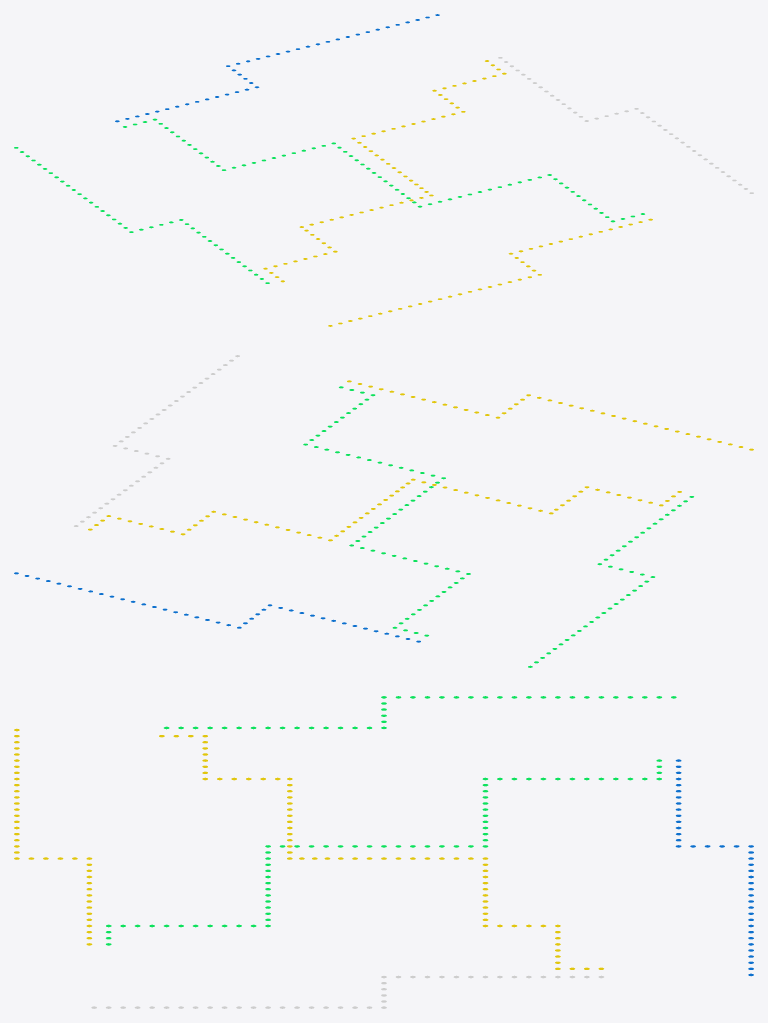
File: Tetris_AttackLineDummy.fbx
3 views of the same model, one above another, from view 1: azimuth 30°, elevation 25°; view 2: azimuth 150°, elevation 25°; view 3: azimuth 270°, elevation 25° (orthographic). The views are drawn at different scales.
Size of the model in its own units: 569 by 1.48e-08 by 569.
